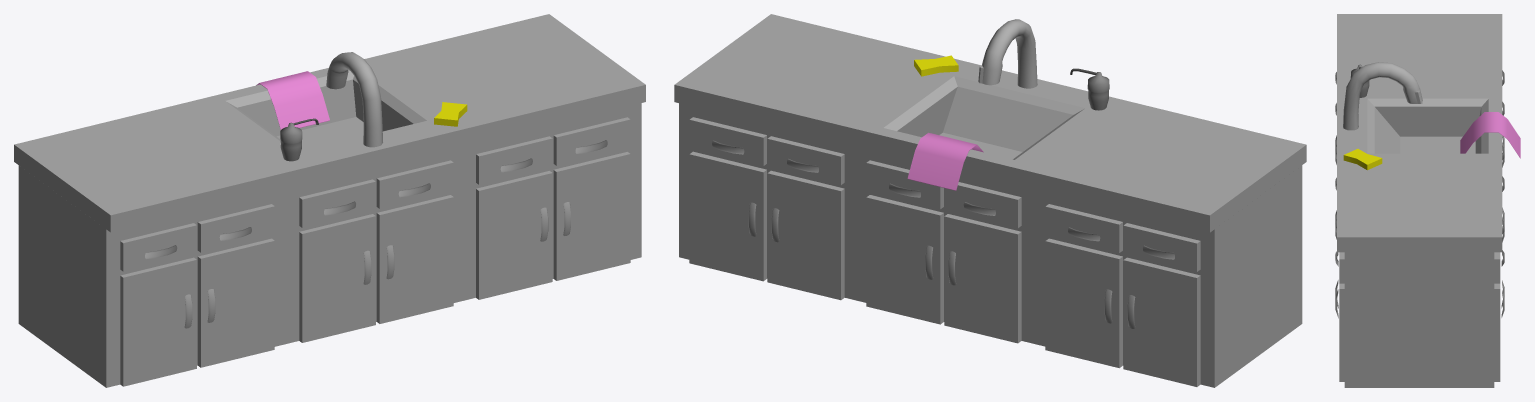
The model's file is wastafel.fbx.
The picture shows the model from 3 angles, left to right: view 1: azimuth 30°, elevation 25°; view 2: azimuth 150°, elevation 25°; view 3: azimuth 270°, elevation 25°; orthographic projection. The views are drawn at different scales.
Visible parts, largest first — view 1: pCube49; view 2: pCube49; view 3: pCube49.
Boxes of the visible parts, x1,y1,x2,y2 form: pCube49: (14,14,645,387); pCube49: (674,14,1306,387); pCube49: (1335,14,1520,387).
Bounding box in the file's own units: 5.84 × 2.61 × 2.04.
